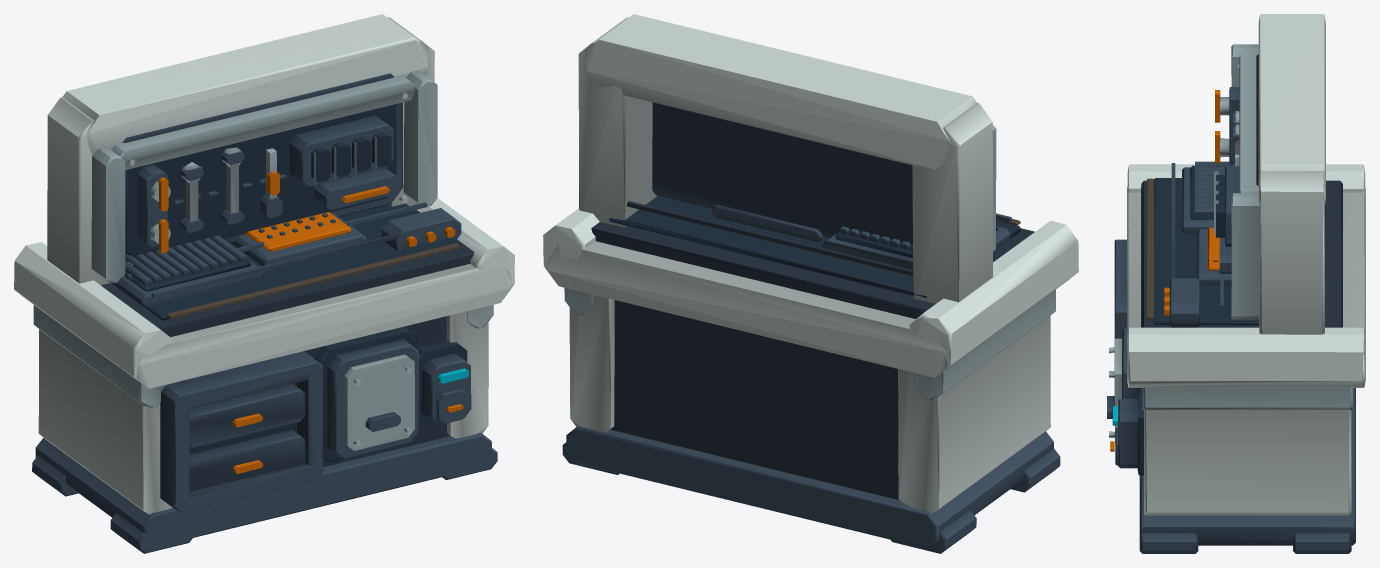
The model's file is etabli.glb.
3 renders of one model, left to right at view 1: azimuth 30°, elevation 25°; view 2: azimuth 150°, elevation 25°; view 3: azimuth 270°, elevation 25°, orthographic. The views are drawn at different scales.
Visible parts, largest first — view 1: corps__bleu_nuit, corps__gris_clair2, corps__gris_clair3, corps__bleu_nuit2, corps__lum_orange, corps__gris_clair, corps__brun, service_drawer__bleu_nuit; view 2: corps__gris_clair2, corps__bleu_nuit, corps__bleu_nuit2, corps__gris_clair3; view 3: corps__gris_clair2, corps__bleu_nuit, corps__gris_clair3, corps__bleu_nuit2, corps__lum_orange, corps__brun, corps__gris_clair.
Boxes of the visible parts, x1=… form: corps__bleu_nuit: x1=32, y1=73, x2=497, y2=553; corps__gris_clair2: x1=14, y1=14, x2=514, y2=514; corps__gris_clair3: x1=33, y1=70, x2=493, y2=450; corps__bleu_nuit2: x1=124, y1=104, x2=467, y2=462; corps__lum_orange: x1=158, y1=171, x2=455, y2=473; corps__gris_clair: x1=128, y1=93, x2=412, y2=446; corps__brun: x1=166, y1=243, x2=460, y2=318; service_drawer__bleu_nuit: x1=437, y1=389, x2=467, y2=423; corps__gris_clair2: x1=543, y1=14, x2=1078, y2=513; corps__bleu_nuit: x1=562, y1=102, x2=1060, y2=553; corps__bleu_nuit2: x1=609, y1=196, x2=1020, y2=297; corps__gris_clair3: x1=564, y1=124, x2=1055, y2=399; corps__gris_clair2: x1=1127, y1=14, x2=1365, y2=515; corps__bleu_nuit: x1=1107, y1=54, x2=1355, y2=553; corps__gris_clair3: x1=1115, y1=44, x2=1352, y2=443; corps__bleu_nuit2: x1=1137, y1=165, x2=1325, y2=475; corps__lum_orange: x1=1164, y1=90, x2=1220, y2=315; corps__brun: x1=1147, y1=178, x2=1153, y2=319; corps__gris_clair: x1=1109, y1=64, x2=1239, y2=437.
Bounding box in the file's own units: 1.02 × 0.9988 × 0.613.
